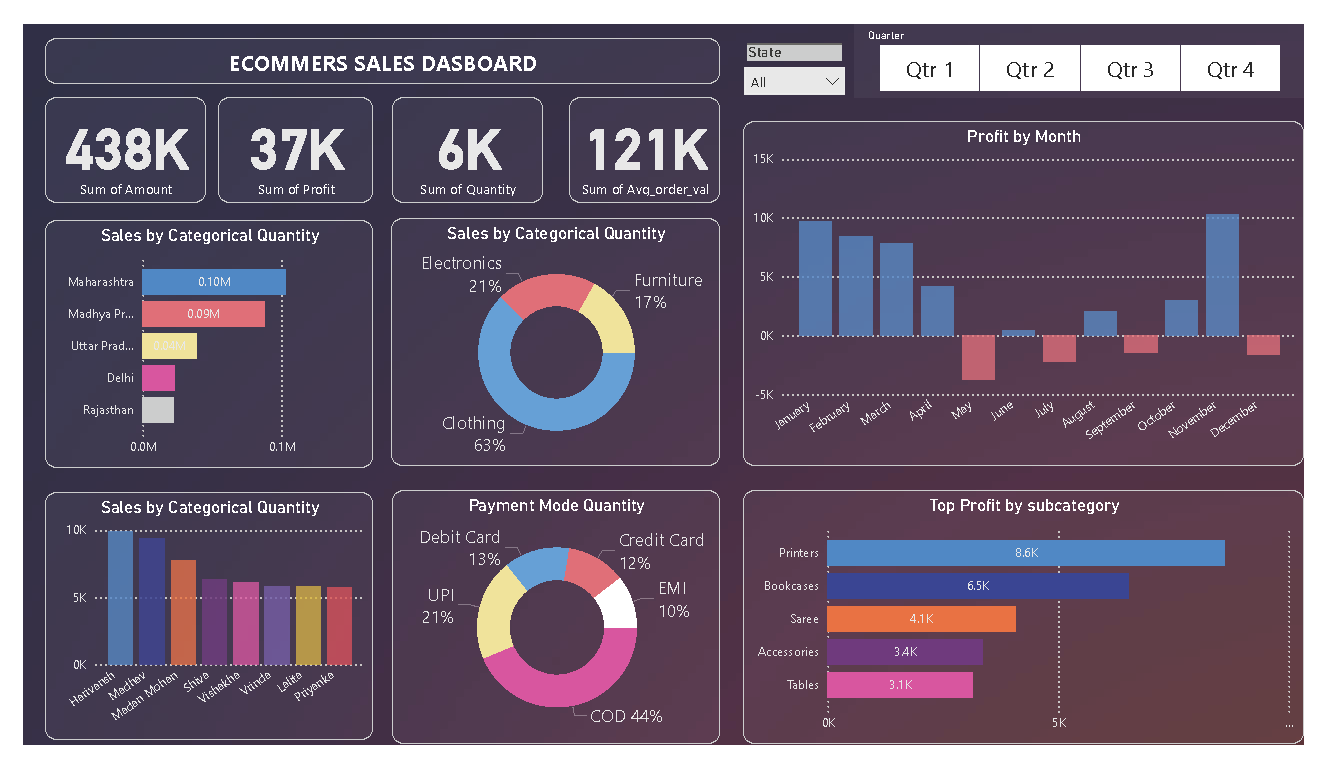

The dashboard page shown, as its layout file describes it:
{"tool":"powerbi","page":{"name":"Page 1","canvas":[1280,720],"ordinal":0},"visuals":[{"type":"textbox","box":[20.5,13.7,675.1,46.6],"z":0},{"type":"columnChart","title":"Profit by Month","fields":{"Category":["Orders.Order Date.Variation.Date Hierarchy.Month"],"Y":["Details.Profit"]},"box":[718.9,97.2,561.4,345.1],"z":1000},{"type":"barChart","title":"Top Profit by subcategory","fields":{"Category":["Details.Sub-Category"],"Y":["Details.Profit"],"Series":["Details.Sub-Category"]},"box":[718.9,465.6,561.4,254.7],"z":2000},{"type":"donutChart","title":"Payment Mode Quantity","fields":{"Category":["Details.PaymentMode"],"Y":["Details.Quantity"]},"box":[368.3,465.6,327.3,254.7],"z":3000},{"type":"donutChart","title":"Sales by Categorical Quantity","fields":{"Category":["Details.Category"],"Y":["Details.Quantity"]},"box":[367,194.4,328.6,247.8],"z":4000},{"type":"card","fields":{"Values":["Details.Amount"]},"box":[20.5,72.6,161.6,106.8],"z":5000},{"type":"card","fields":{"Values":["Details.Profit"]},"box":[194.4,72.6,154.7,106.8],"z":6000},{"type":"card","fields":{"Values":["Details.Quantity"]},"box":[368.3,72.6,150.6,106.8],"z":7000},{"type":"card","fields":{"Values":["Details.Avg_order_val"]},"box":[545,72.6,150.6,106.8],"z":8000},{"type":"barChart","title":"Sales by Categorical Quantity","fields":{"Category":["Orders.State"],"Y":["Details.Amount"],"Series":["Orders.State"]},"box":[20.5,195.8,328.6,247.8],"z":9000},{"type":"columnChart","title":"Sales by Categorical Quantity","fields":{"Category":["Orders.CustomerName"],"Y":["Details.Amount"],"Series":["Orders.CustomerName"]},"box":[20.5,468.3,328.6,247.8],"z":10000},{"type":"slicer","fields":{"Values":["Orders.Order Date.Variation.Date Hierarchy.Quarter"]},"box":[831.2,0,449.1,72.6],"z":11000},{"type":"slicer","fields":{"Values":["Orders.State"]},"box":[710.7,13.7,120.5,71.2],"z":12000}]}

Visuals, with their boxes on the page's 1280x720 design canvas (x1, y1, x2, y2). These are canvas units, not pixel positions in the 1328x768 screenshot, which may show the page scaled, cropped or inside an application window:
textbox: detection(20, 14, 696, 60)
"Profit by Month" columnChart: detection(719, 97, 1280, 442)
"Top Profit by subcategory" barChart: detection(719, 466, 1280, 720)
"Payment Mode Quantity" donutChart: detection(368, 466, 696, 720)
"Sales by Categorical Quantity" donutChart: detection(367, 194, 696, 442)
card - Details.Amount: detection(20, 73, 182, 179)
card - Details.Profit: detection(194, 73, 349, 179)
card - Details.Quantity: detection(368, 73, 519, 179)
card - Details.Avg_order_val: detection(545, 73, 696, 179)
"Sales by Categorical Quantity" barChart: detection(20, 196, 349, 444)
"Sales by Categorical Quantity" columnChart: detection(20, 468, 349, 716)
slicer - Orders.Order Date.Variation.Date Hierarchy.Quarter: detection(831, 0, 1280, 73)
slicer - Orders.State: detection(711, 14, 831, 85)
